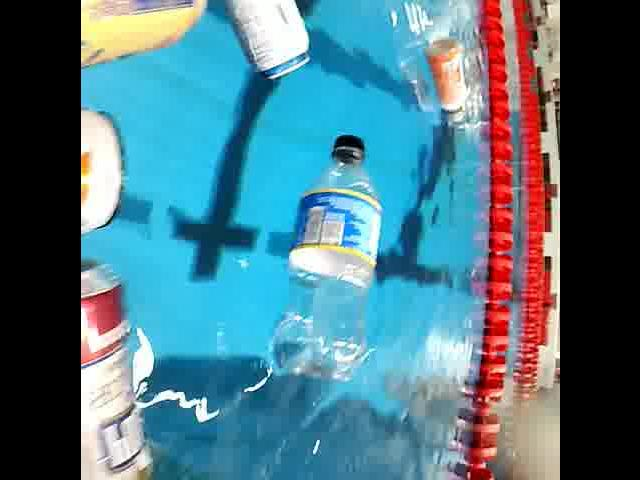Bottle: (268, 136, 382, 384), (80, 0, 210, 67), (428, 38, 472, 126)
Can: (81, 260, 154, 480), (205, 0, 311, 86), (80, 100, 127, 236)
